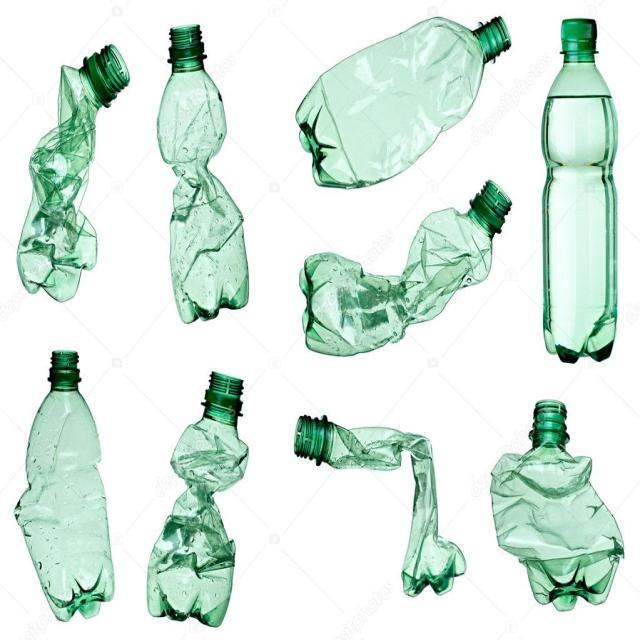Plastic: (276, 372, 474, 630), (269, 8, 537, 188), (137, 16, 271, 329), (274, 190, 514, 358), (8, 26, 141, 325), (526, 14, 631, 372), (482, 387, 640, 620), (134, 348, 258, 636), (9, 330, 126, 632)
